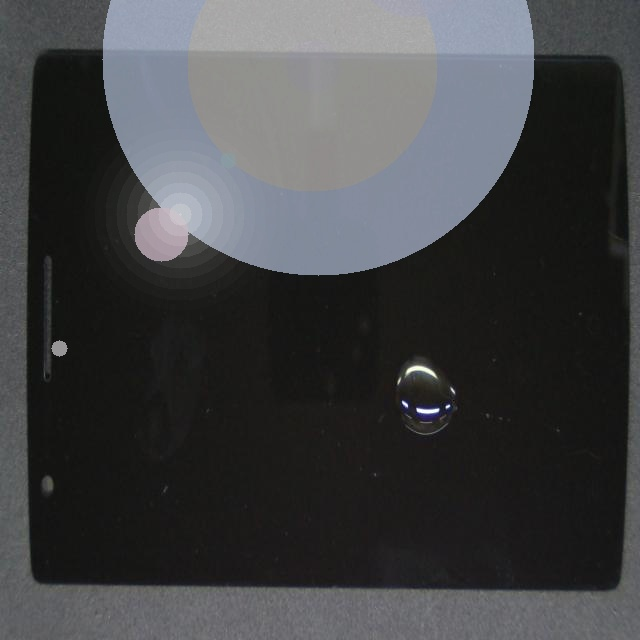oil: (194, 155, 588, 569)
